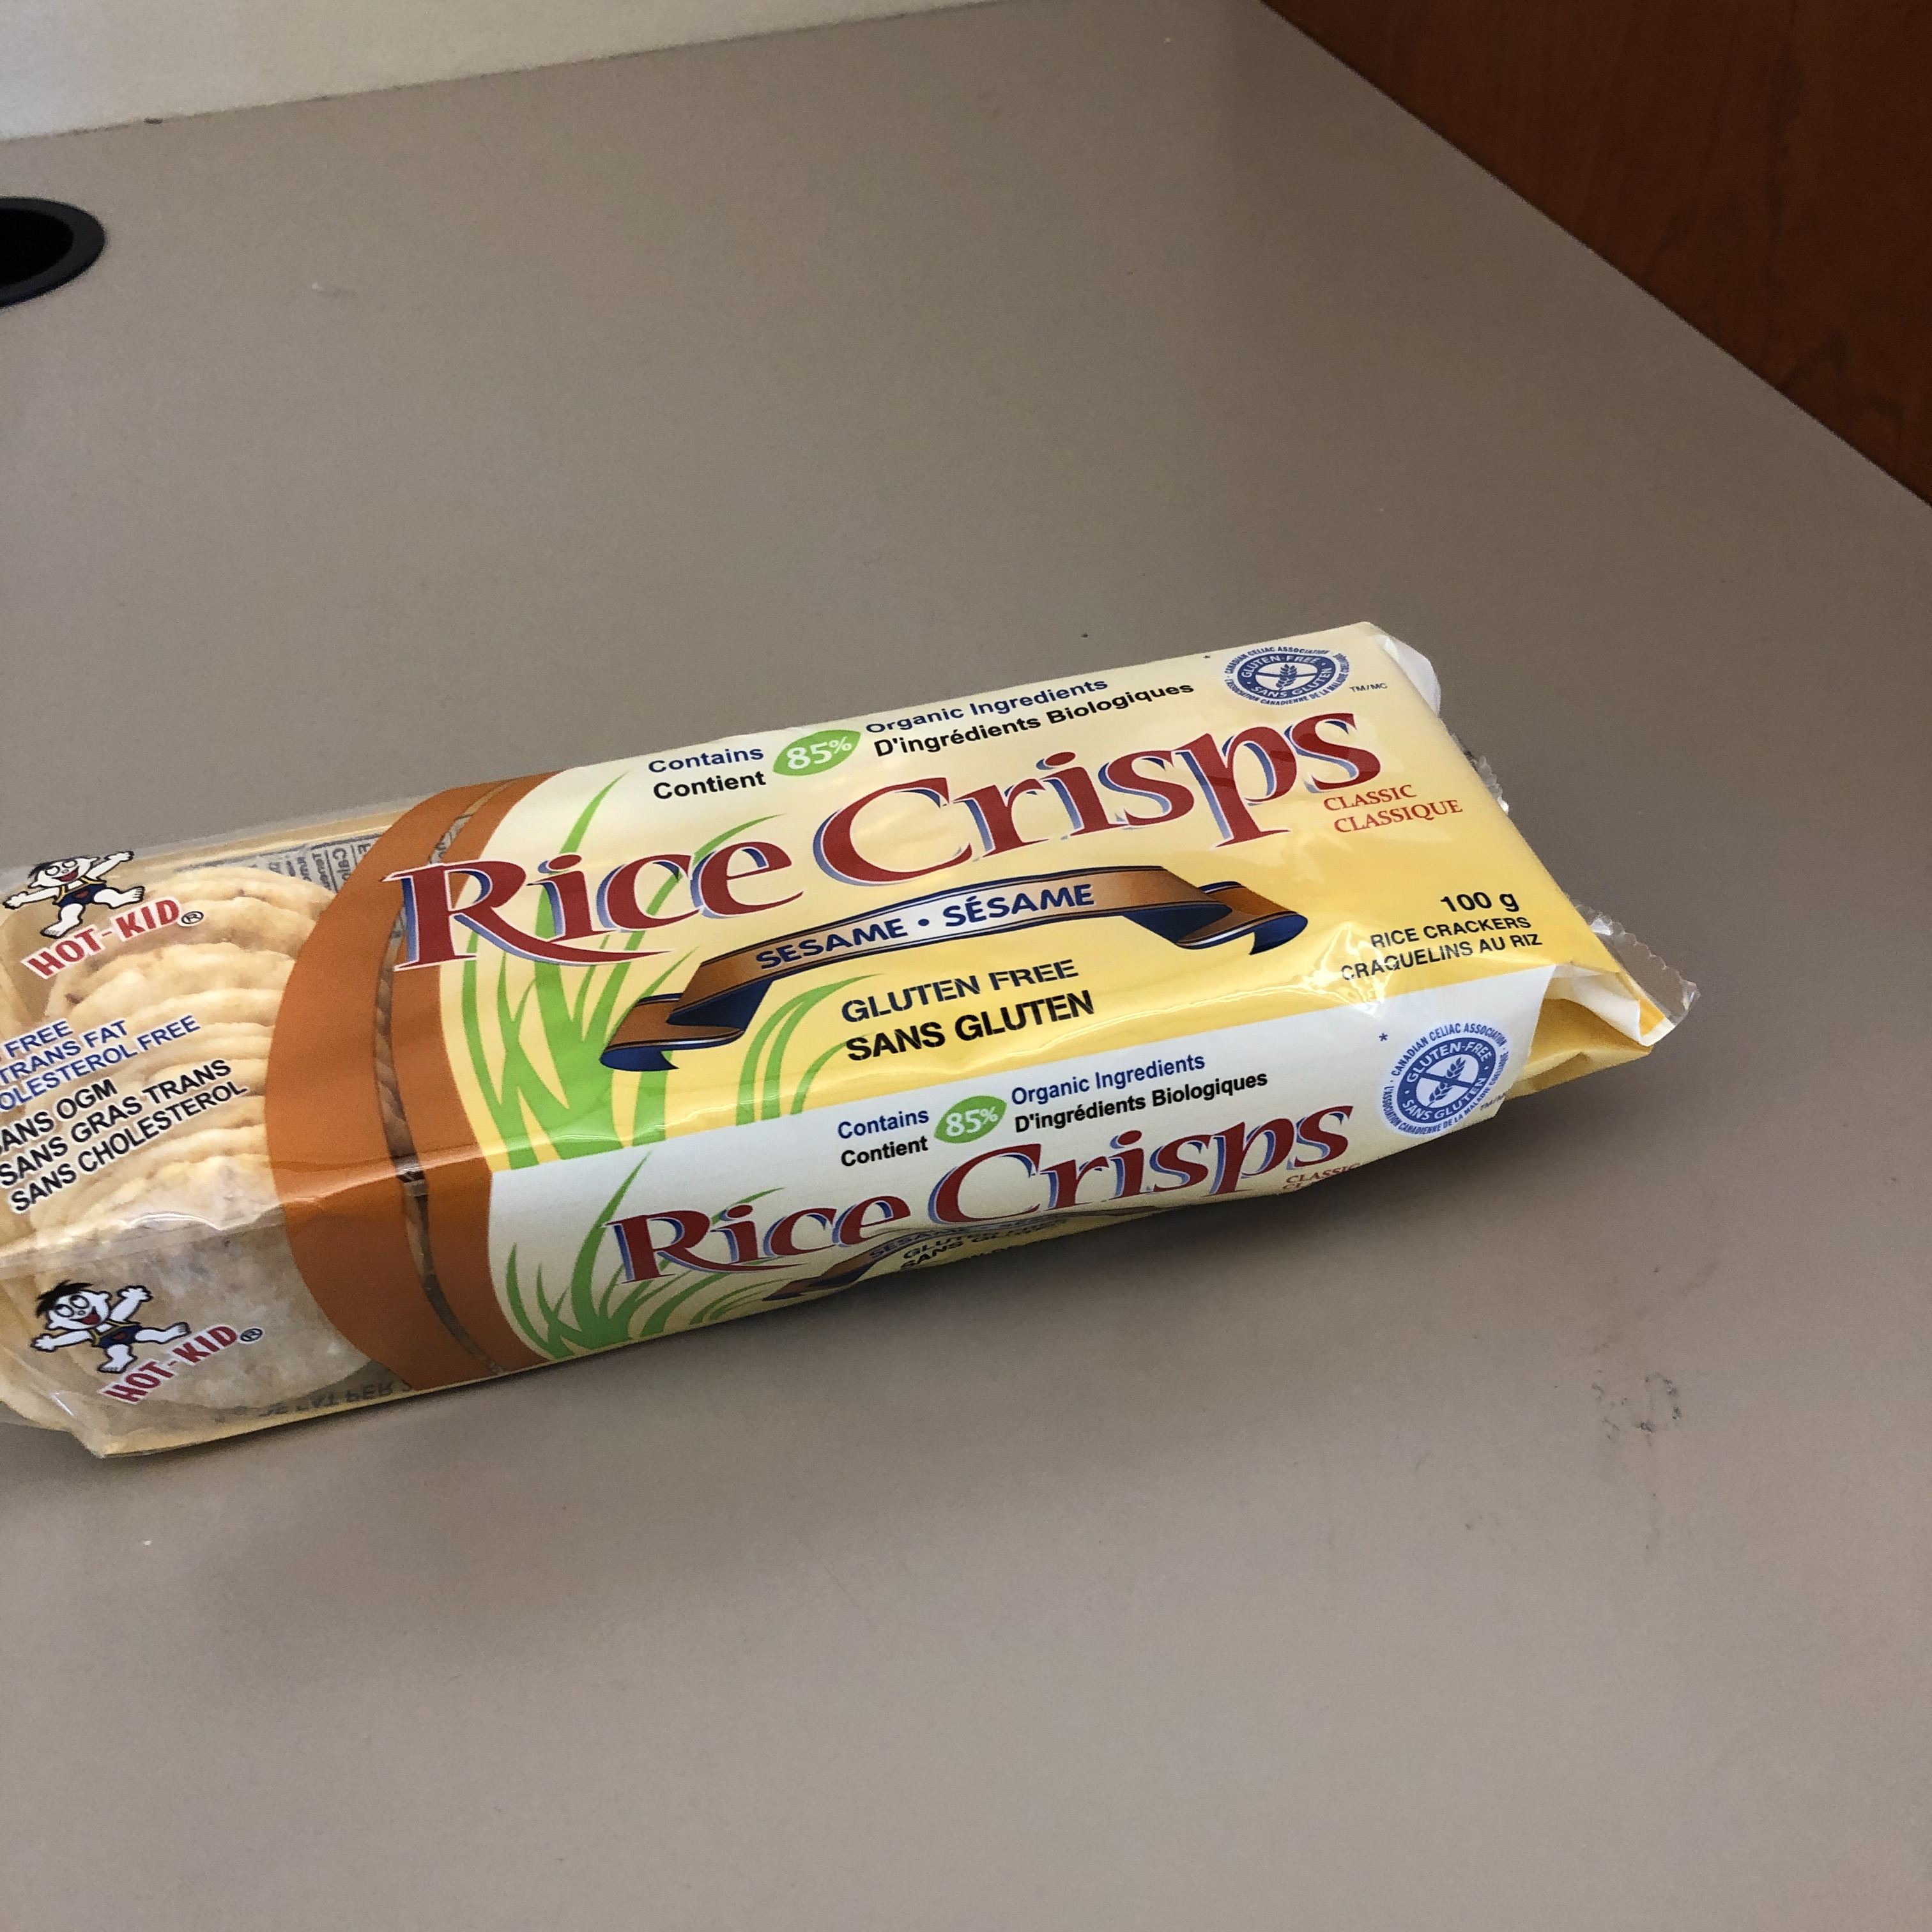hot_kid_rice_crisps_sesame: (664, 495, 1334, 1887)
